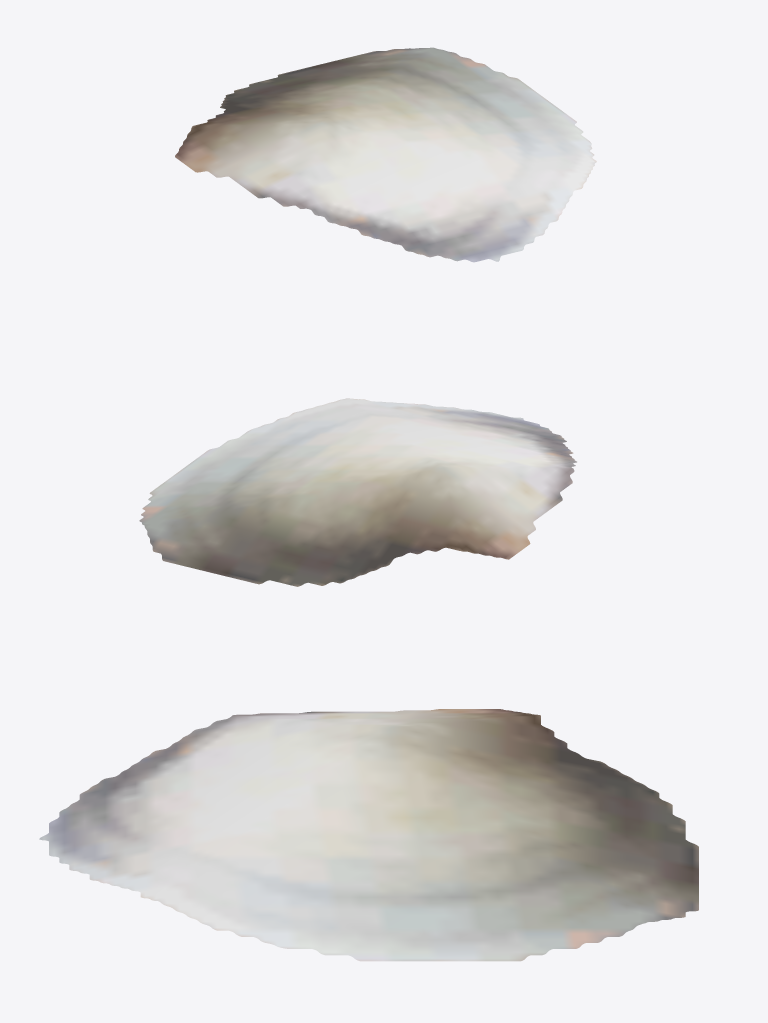
The model's file is shor_seashell_clam_l0.fbx.
The picture shows the model from 3 angles, top to bottom: view 1: azimuth 30°, elevation 25°; view 2: azimuth 150°, elevation 25°; view 3: azimuth 270°, elevation 25°; orthographic projection. The views are drawn at different scales.
Parts seen in each view (by area): view 1: mesh_node; view 2: mesh_node; view 3: mesh_node.
Boxes of the visible parts, left/top/right/bottom form: mesh_node: left=175, top=47, right=596, bottom=262; mesh_node: left=139, top=398, right=576, bottom=586; mesh_node: left=39, top=709, right=698, bottom=961.
Bounding box in the file's own units: 0.0638 × 0.00782 × 0.0638.
Materials: 1 (1 with a texture image).
